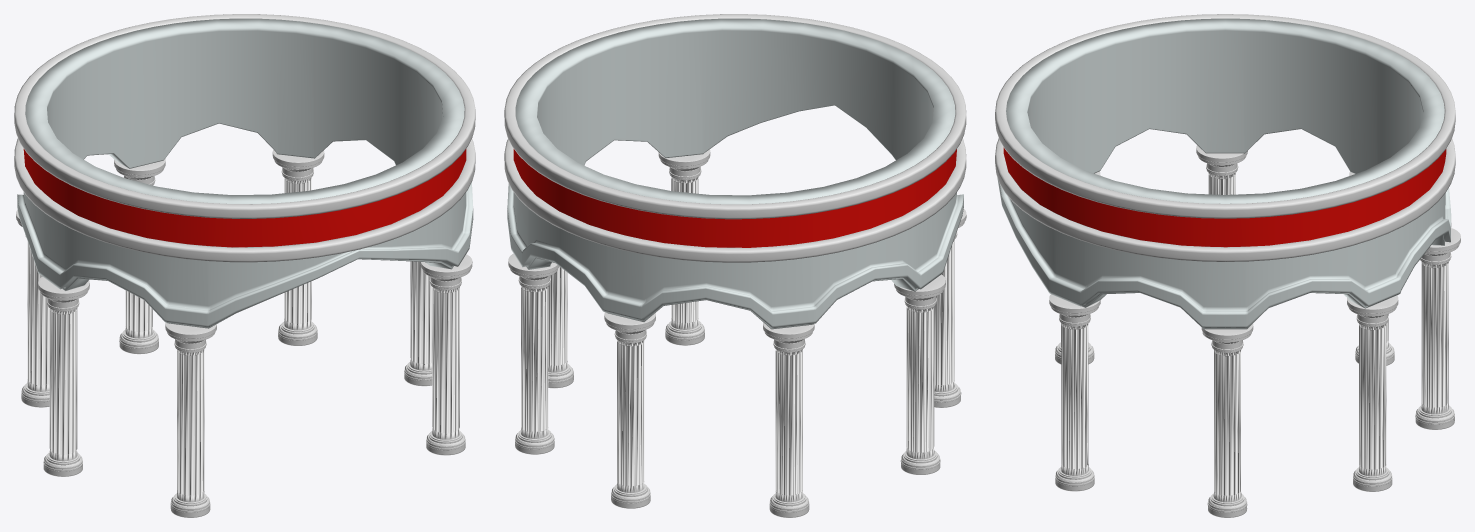
The model's file is greek part.fbx.
The picture shows the model from 3 angles, left to right: view 1: azimuth 30°, elevation 25°; view 2: azimuth 150°, elevation 25°; view 3: azimuth 270°, elevation 25°; orthographic projection.
Visible parts, largest first — view 1: Circle.011, Circle.001, Circle.008, Circle.007, Colummn 7.005, Colummn 7.006, Colummn 7, Colummn 7.004, Colummn 7.002, Colummn 7.001, Colummn 7.003; view 2: Circle.011, Circle.001, Circle.008, Circle.007, Colummn 7.005, Colummn 7.003, Colummn 7.004, Colummn 7.002, Colummn 7.006, Colummn 7, Colummn 7.001; view 3: Circle.011, Circle.001, Circle.008, Circle.007, Colummn 7, Colummn 7.002, Colummn 7.001, Colummn 7.003, Colummn 7.005.
Boxes of the visible parts, x1,y1,x2,y2 form: Circle.011: (17, 18, 473, 328); Circle.001: (23, 149, 466, 247); Circle.008: (14, 14, 475, 218); Circle.007: (14, 138, 475, 262); Colummn 7.005: (38, 276, 89, 476); Colummn 7.006: (165, 322, 216, 517); Colummn 7: (420, 254, 472, 455); Colummn 7.004: (16, 210, 49, 407); Colummn 7.002: (272, 149, 324, 345); Colummn 7.001: (404, 261, 432, 386); Colummn 7.003: (114, 158, 165, 354); Circle.011: (507, 18, 963, 329); Circle.001: (513, 149, 956, 247); Circle.008: (504, 14, 966, 219); Circle.007: (504, 138, 966, 262); Colummn 7.005: (894, 274, 945, 474); Colummn 7.003: (604, 312, 655, 508); Colummn 7.004: (763, 322, 814, 517); Colummn 7.002: (508, 253, 559, 454); Colummn 7.006: (934, 209, 966, 407); Colummn 7: (658, 149, 710, 345); Colummn 7.001: (548, 266, 573, 388); Circle.011: (997, 18, 1451, 329); Circle.001: (1003, 147, 1446, 247); Circle.008: (995, 14, 1455, 218); Circle.007: (995, 138, 1455, 261); Colummn 7: (1049, 294, 1100, 491); Colummn 7.002: (1347, 295, 1398, 491); Colummn 7.001: (1201, 324, 1253, 517); Colummn 7.003: (1415, 228, 1460, 429); Colummn 7.005: (1196, 145, 1247, 337).
Bounding box in the file's own units: 18503 × 13524 × 18328.
